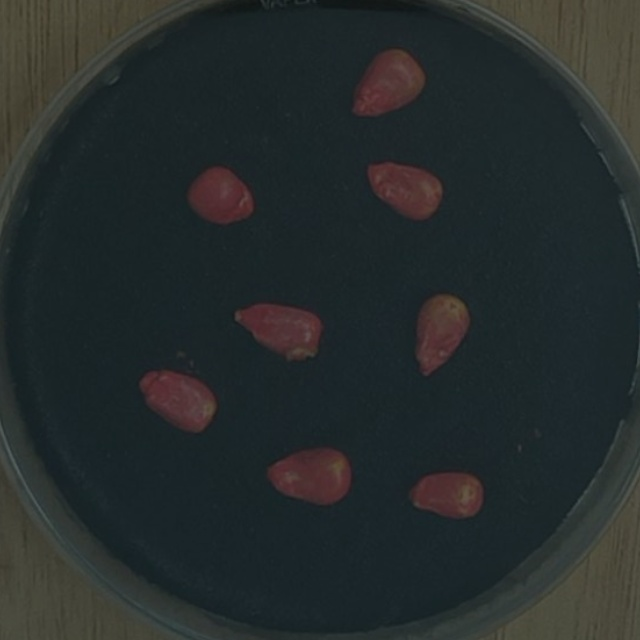Zea mays: (223, 293, 332, 369), (343, 40, 434, 127), (129, 360, 225, 441), (258, 438, 359, 513), (407, 285, 480, 386), (358, 151, 450, 228), (398, 461, 491, 527), (179, 157, 261, 231)
